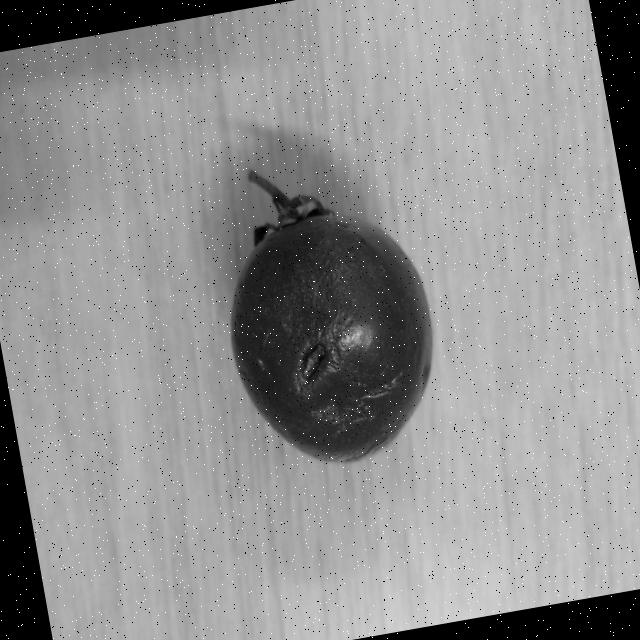Rotten: (210, 194, 456, 480)
